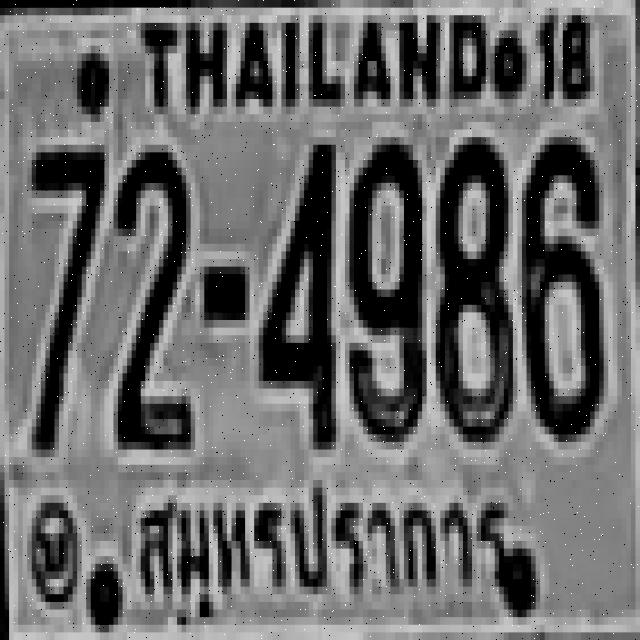2: (114, 145, 186, 442)
4: (259, 137, 331, 442)
6: (518, 130, 600, 434)
7: (27, 144, 100, 450), (27, 144, 100, 366)
8: (432, 130, 508, 434)
9: (345, 137, 422, 434)
SamutPrakan: (115, 480, 518, 618)
